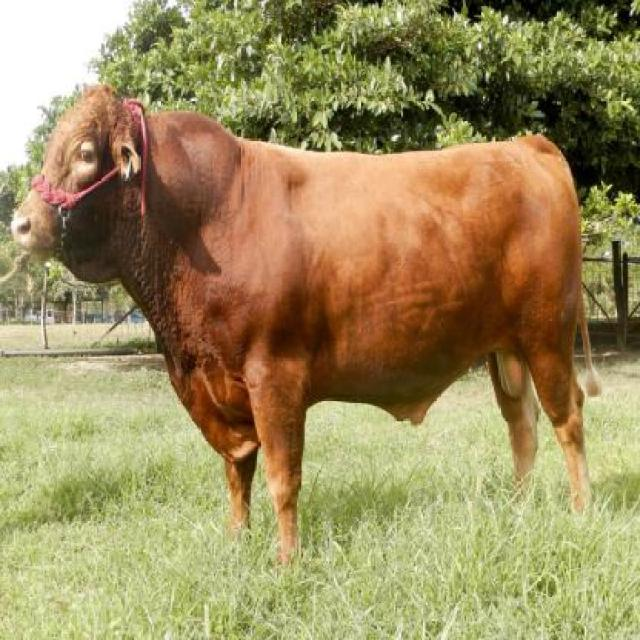Cow: (14, 83, 606, 554)
